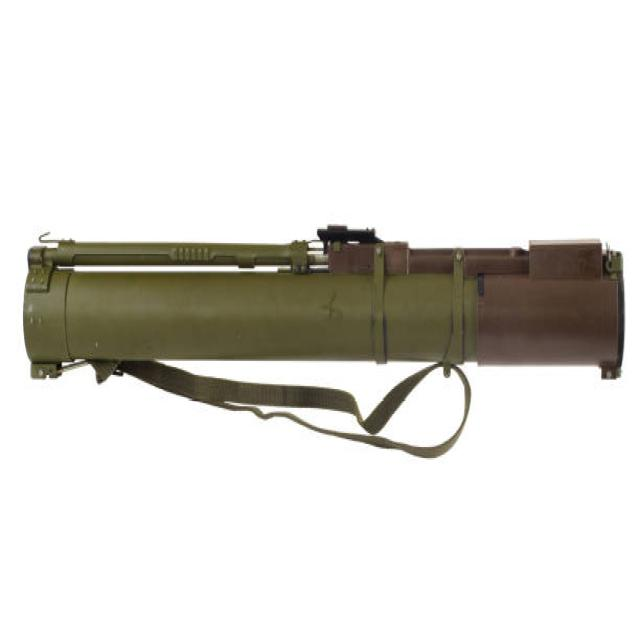bazooka: (17, 216, 633, 387)
